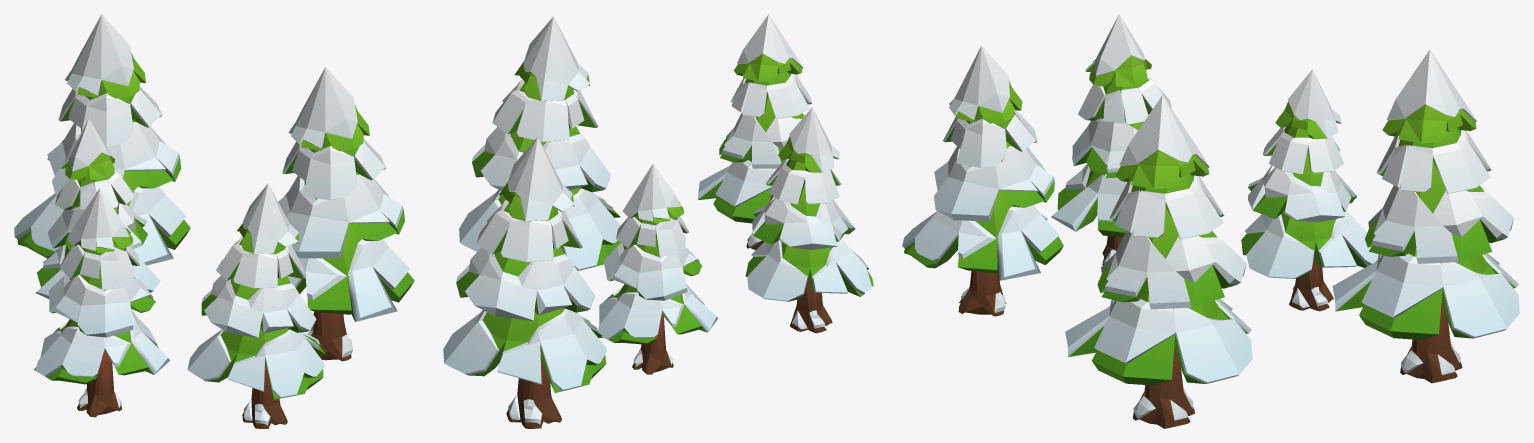
The picture shows the model from 3 angles, left to right: view 1: azimuth 30°, elevation 25°; view 2: azimuth 150°, elevation 25°; view 3: azimuth 270°, elevation 25°; orthographic projection. The views are drawn at different scales.
Visible parts, largest first — view 1: SnowyTree (6), SnowyTree (7), SnowyTree (9), SnowyTree (10), SnowyTree (8); view 2: SnowyTree (9), SnowyTree (6), SnowyTree (10), SnowyTree (8), SnowyTree (7); view 3: SnowyTree (9), SnowyTree (6), SnowyTree (7), SnowyTree (8), SnowyTree (10).
Part boxes in pixels (bbox=[...]): SnowyTree (6): bbox=[278, 67, 414, 361]; SnowyTree (7): bbox=[187, 183, 325, 428]; SnowyTree (9): bbox=[14, 14, 190, 265]; SnowyTree (10): bbox=[34, 188, 169, 417]; SnowyTree (8): bbox=[36, 118, 160, 298]; SnowyTree (9): bbox=[443, 137, 606, 428]; SnowyTree (6): bbox=[459, 16, 620, 270]; SnowyTree (10): bbox=[745, 107, 873, 333]; SnowyTree (8): bbox=[597, 163, 717, 374]; SnowyTree (7): bbox=[697, 14, 812, 250]; SnowyTree (9): bbox=[1332, 49, 1519, 383]; SnowyTree (6): bbox=[1065, 95, 1252, 428]; SnowyTree (7): bbox=[902, 45, 1063, 316]; SnowyTree (8): bbox=[1241, 69, 1378, 311]; SnowyTree (10): bbox=[1051, 14, 1171, 265].
Size of the model in its own units: 12.62 by 9.38 by 15.87.
Materials: 1 (1 with a texture image).
